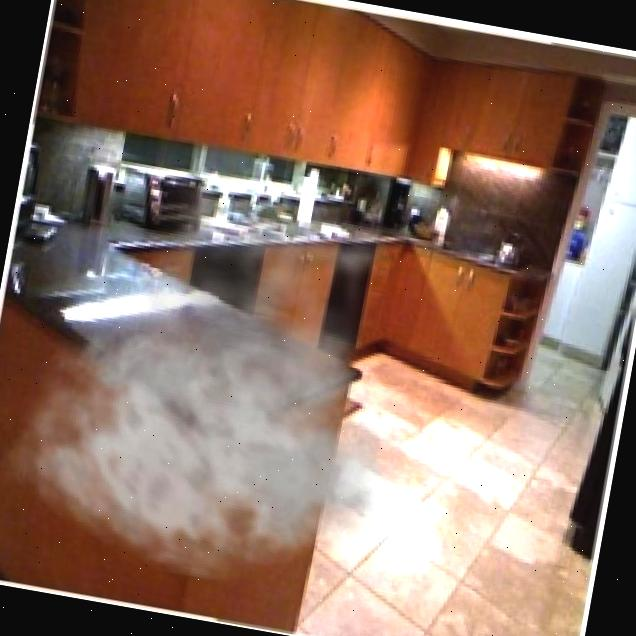smoke: (0, 135, 478, 617)
